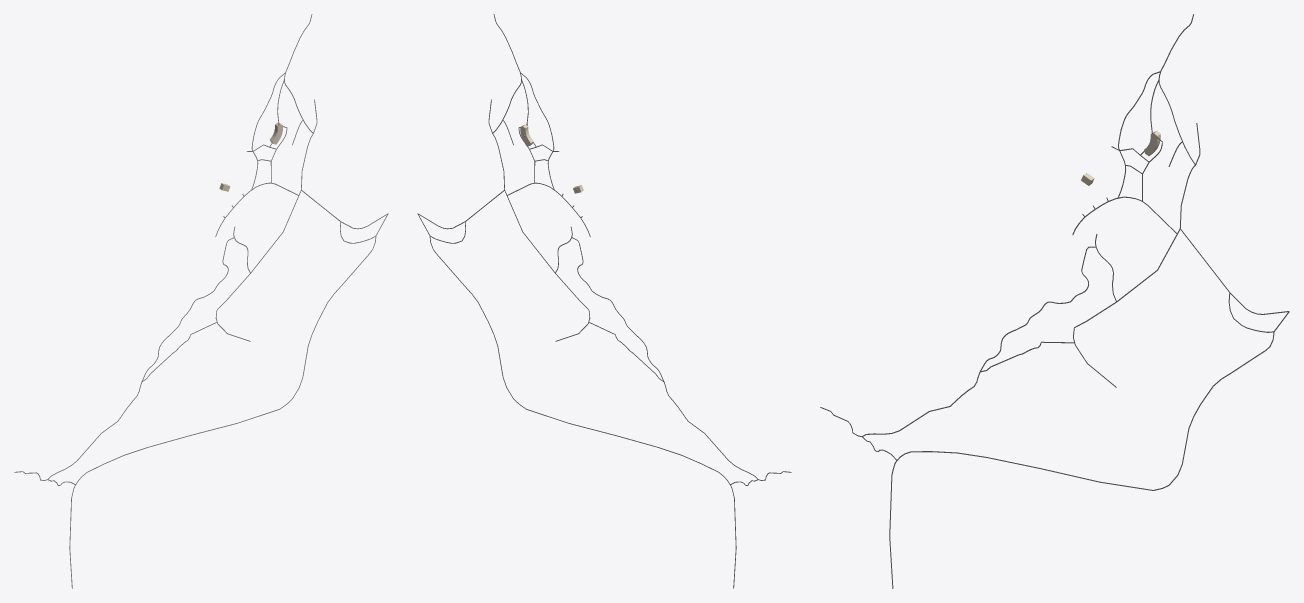
The model's file is historic-palestine-05_25_3469_3192.glb.
3 views of the same model, side by side, from view 1: azimuth 30°, elevation 25°; view 2: azimuth 150°, elevation 25°; view 3: azimuth 330°, elevation 25° (orthographic). The views are drawn at different scales.
Visible parts, largest first — view 1: Road; view 2: Road; view 3: Road, Road שביל המצוק.
Boxes of the visible parts, left/top/right/bottom form: Road: left=69, top=236, right=376, bottom=588; Road: left=429, top=236, right=736, bottom=588; Road: left=889, top=332, right=1274, bottom=588; Road שביל המצוק: left=820, top=246, right=1096, bottom=437.
Size of the model in its own units: 608 by 801 by 8.7.
